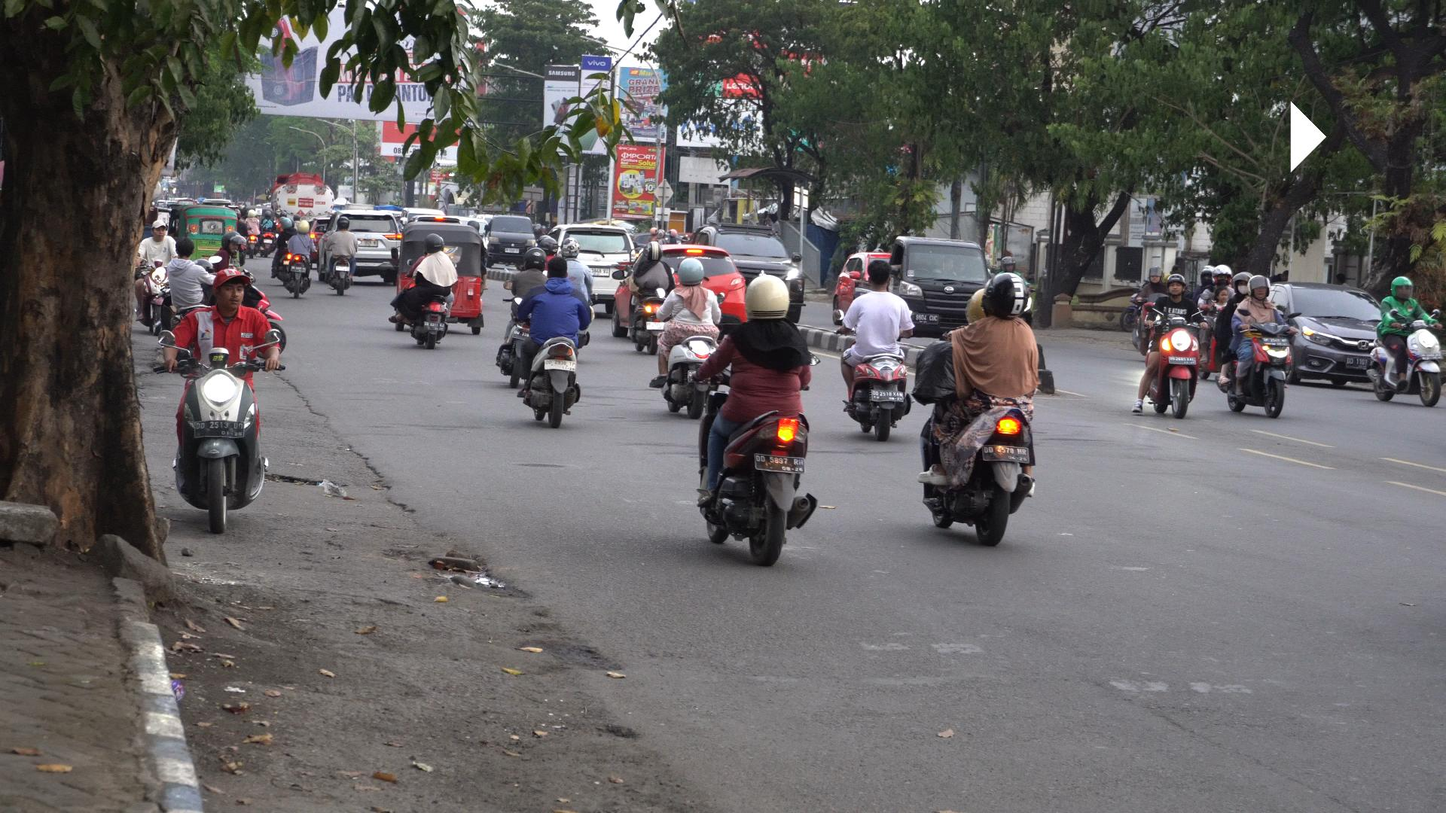number-plate: (190, 418, 249, 439)
